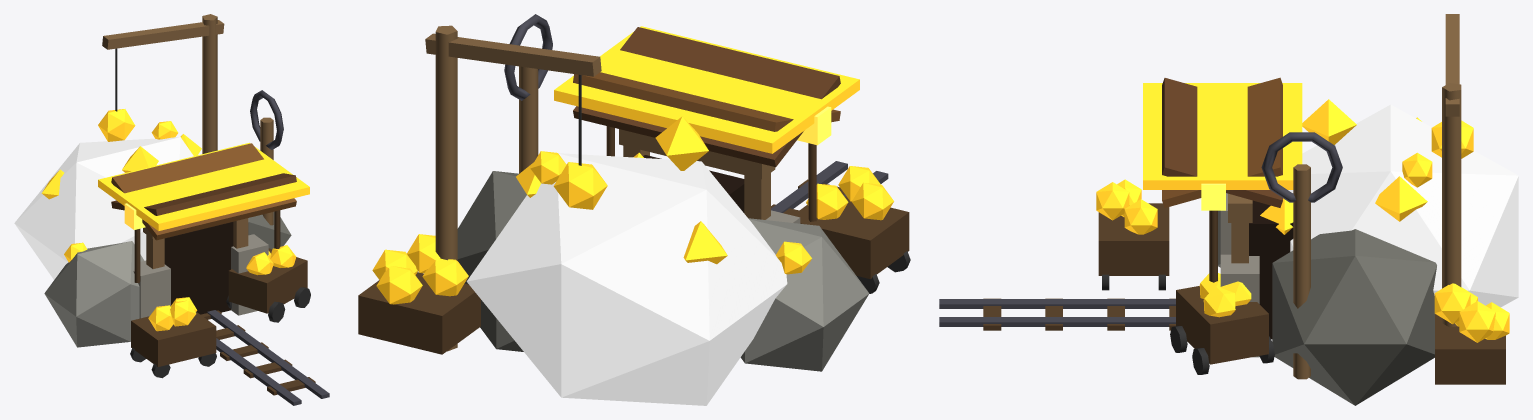
The model's file is goblin-level4.glb.
3 renders of one model, left to right at view 1: azimuth 30°, elevation 25°; view 2: azimuth 150°, elevation 25°; view 3: azimuth 270°, elevation 25°, orthographic. The views are drawn at different scales.
Bounding box in the file's own units: 2.18 × 2.01 × 3.27.
